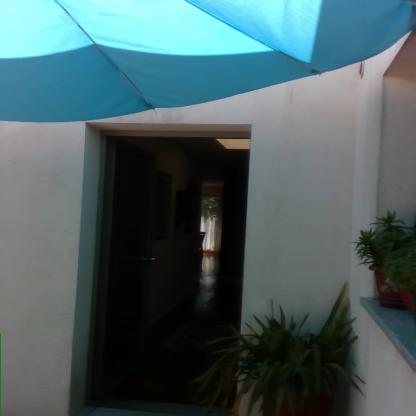open: (62, 118, 264, 415)
